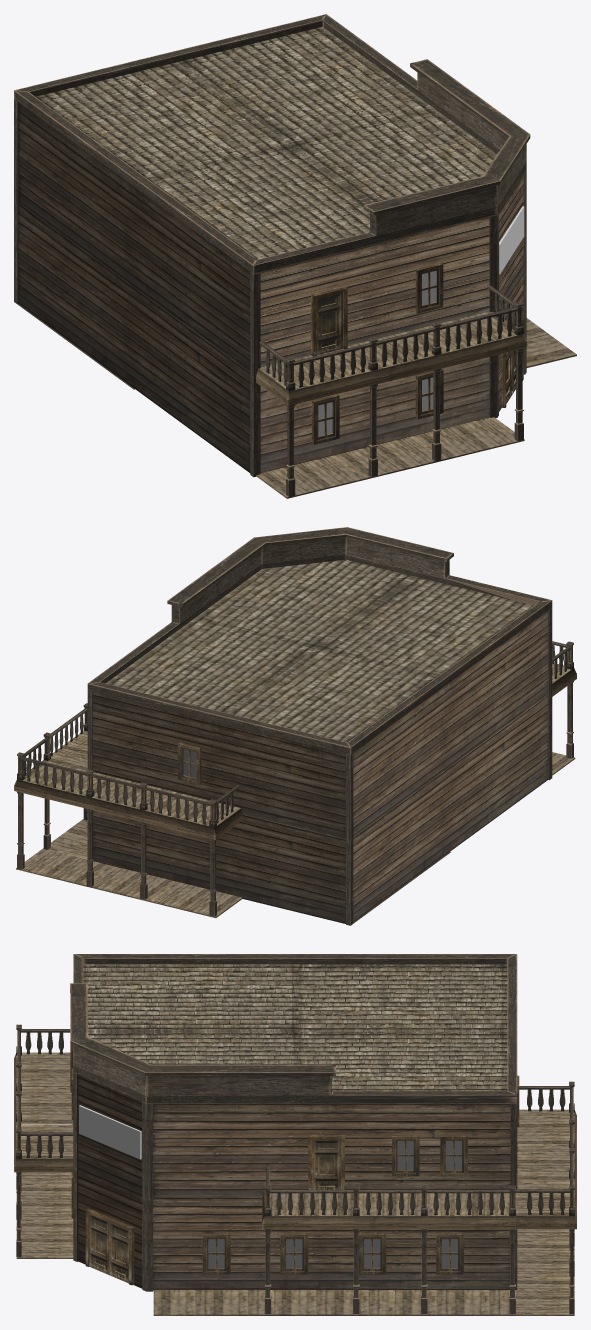
The model's file is Building2_LOD0.FBX.
The picture shows the model from 3 angles, top to bottom: view 1: azimuth 30°, elevation 25°; view 2: azimuth 150°, elevation 25°; view 3: azimuth 270°, elevation 25°; orthographic projection. The views are drawn at different scales.
Visible parts, largest first — view 1: roof, building, glass, sign; view 2: roof, building; view 3: roof, building, glass, sign.
Boxes of the visible parts, bbox=[...] form: roof: bbox=[18, 27, 523, 472]; building: bbox=[14, 14, 576, 498]; glass: bbox=[318, 271, 436, 436]; sign: bbox=[499, 206, 524, 274]; roof: bbox=[92, 559, 547, 923]; building: bbox=[14, 527, 576, 925]; roof: bbox=[78, 964, 510, 1290]; building: bbox=[14, 954, 576, 1315]; glass: bbox=[208, 1141, 461, 1268]; sign: bbox=[79, 1105, 141, 1159].
Bounding box in the file's own units: 507 × 313 × 725.
